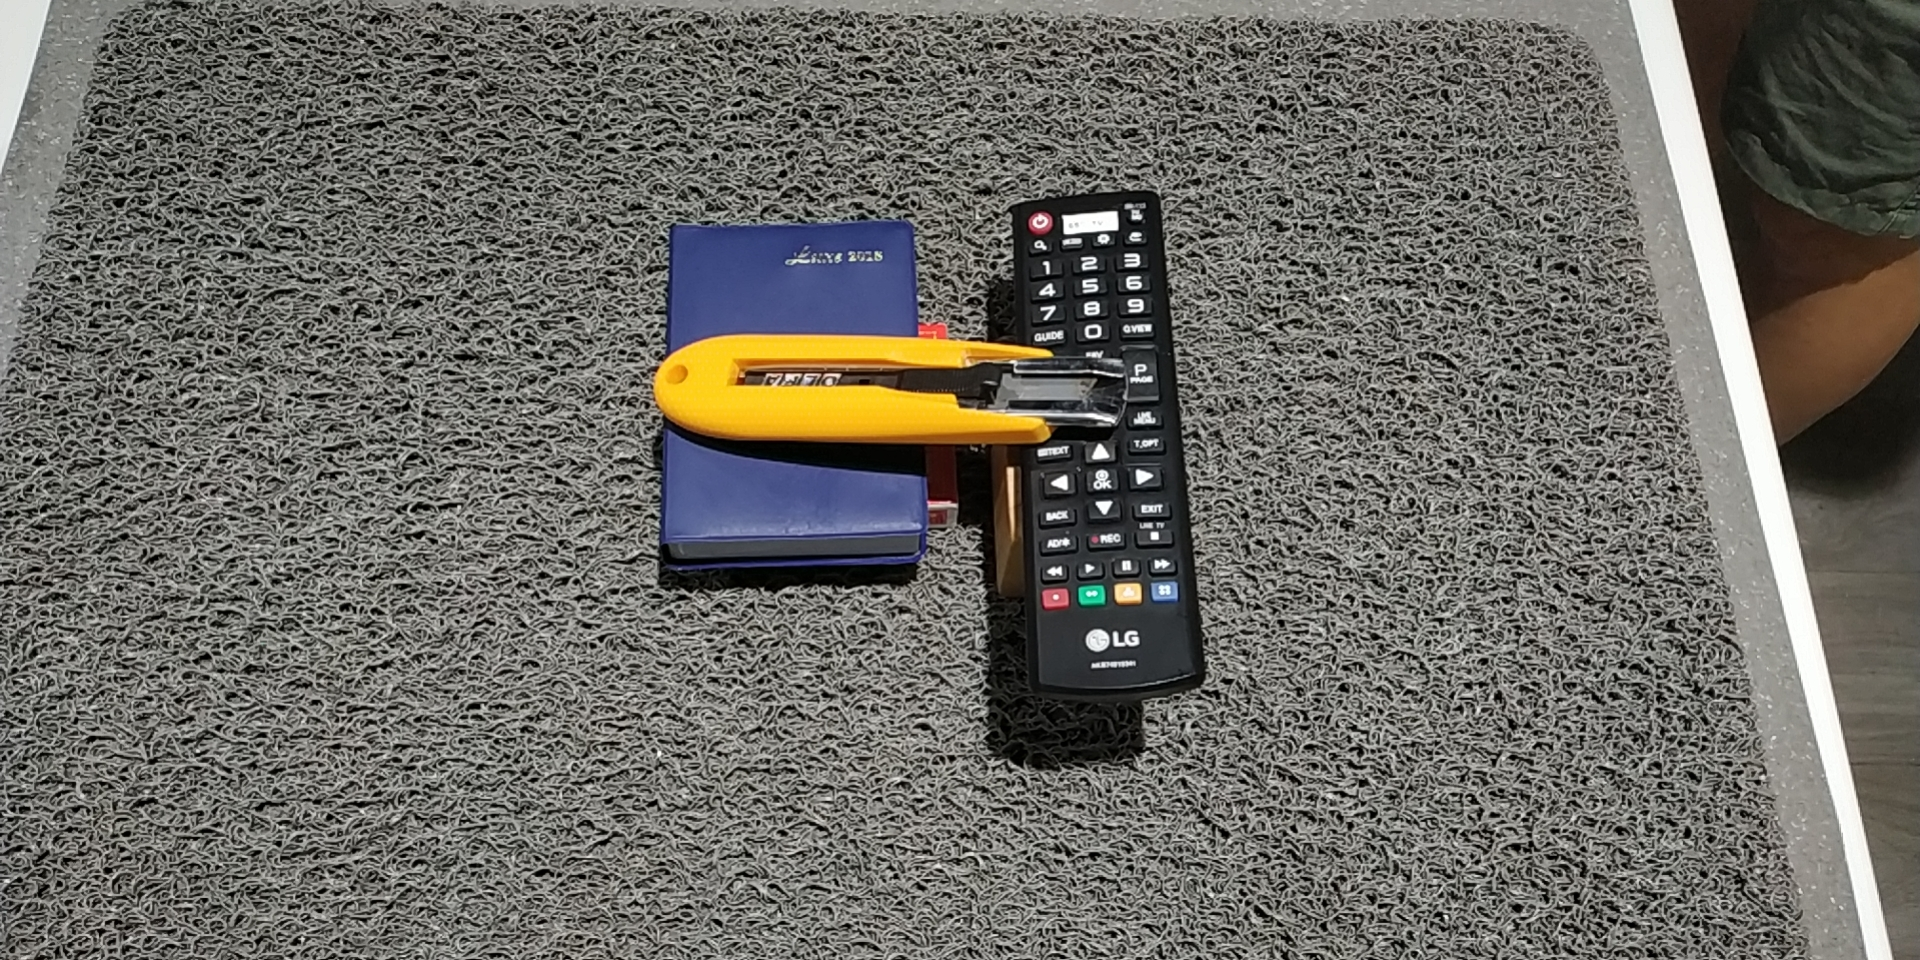box: (978, 396, 1038, 602), (913, 322, 966, 527)
knife: (650, 324, 1130, 457)
notebook: (649, 214, 931, 572)
remote: (1011, 191, 1213, 703)
